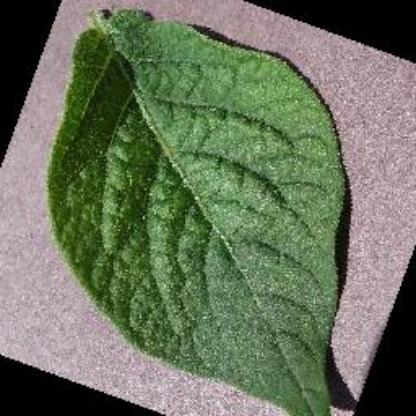Healthy-plant: (48, 7, 372, 415)
